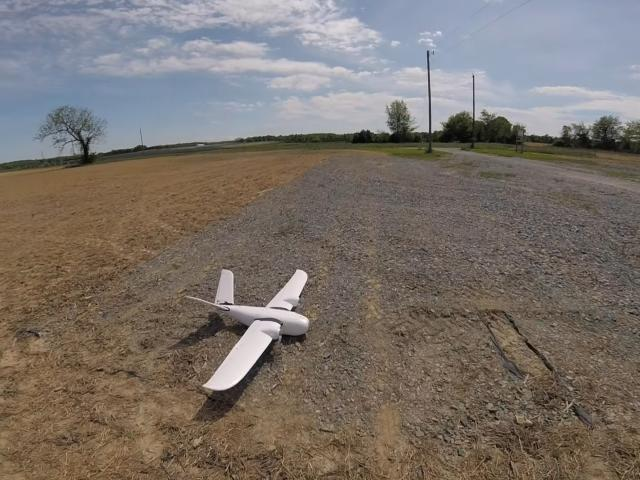plane: (187, 267, 310, 389)
